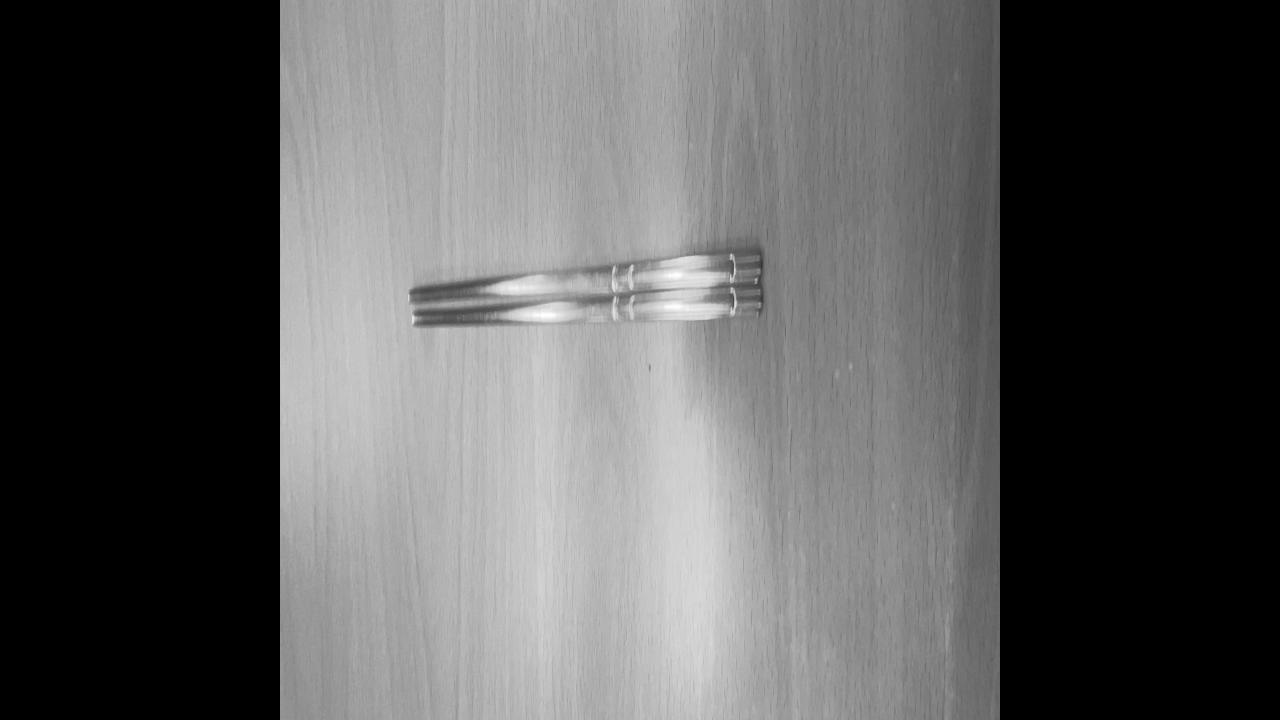chopstick: (406, 246, 768, 334)
